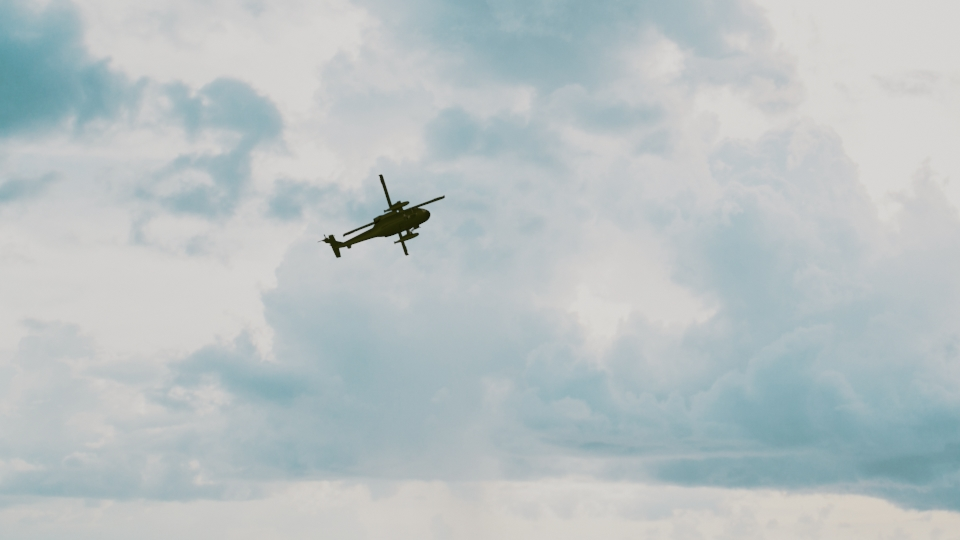heli: (320, 173, 445, 257)
